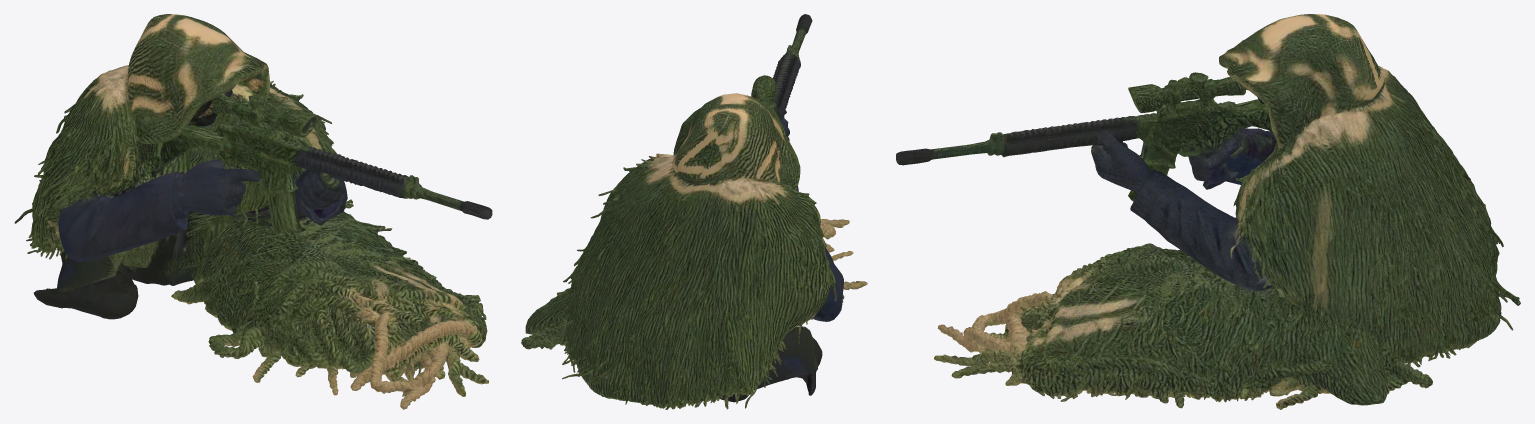
File: sniper.glb
The picture shows the model from 3 angles, left to right: view 1: azimuth 30°, elevation 25°; view 2: azimuth 150°, elevation 25°; view 3: azimuth 270°, elevation 25°; orthographic projection. The views are drawn at different scales.
Bounding box in the file's own units: 1.22 × 0.9785 × 1.9.
1 material, 1 textured.
